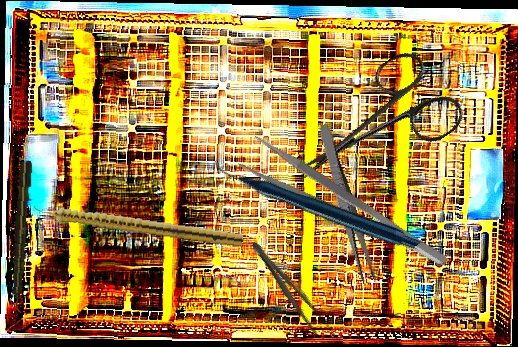Dressing Forceps: (236, 131, 452, 288), (313, 122, 379, 287), (244, 237, 339, 346)
Handpiece: (211, 90, 423, 315), (32, 200, 245, 248), (8, 160, 34, 314)
Iris Scissors: (274, 41, 470, 216)
